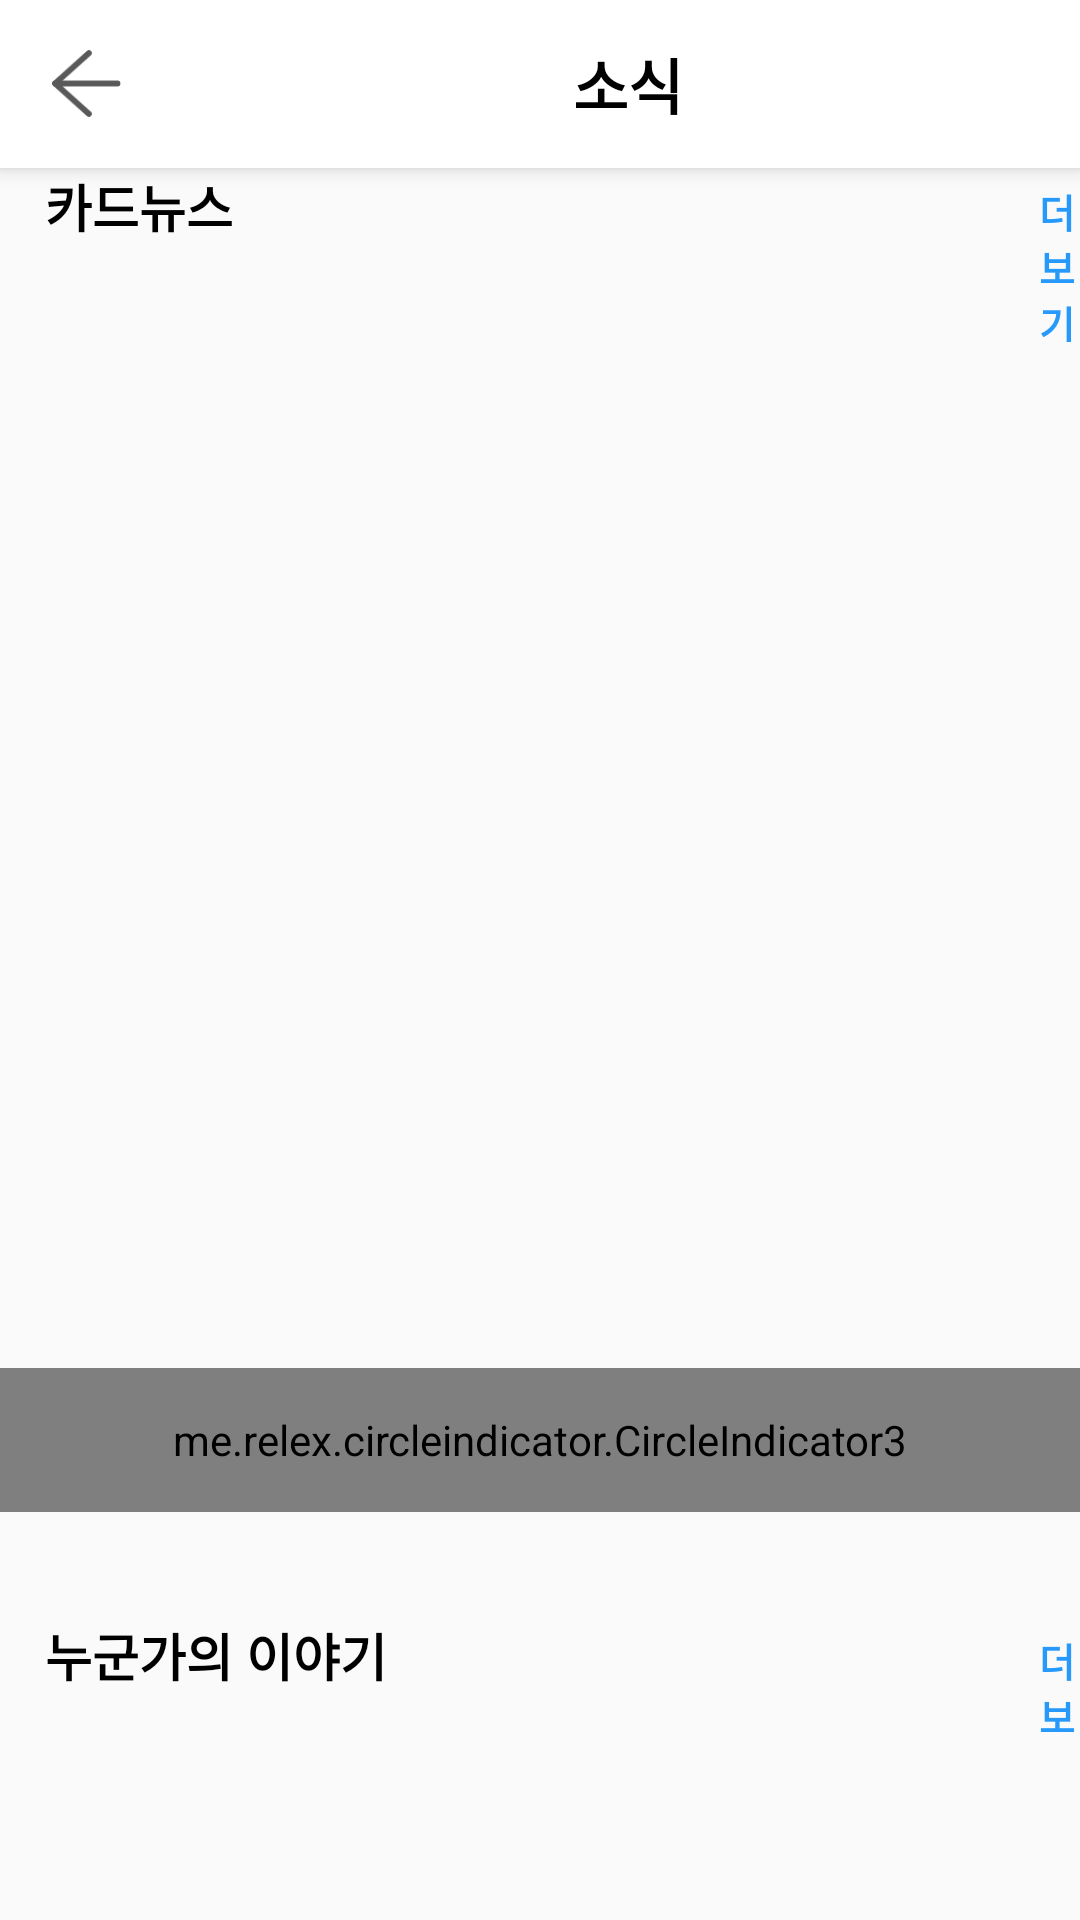

Screen size 1080px x 1920px. Icon name, then its box in pixels as BBox(x1, y1, x2, y2):
arrow: BBox(52, 50, 121, 117)
